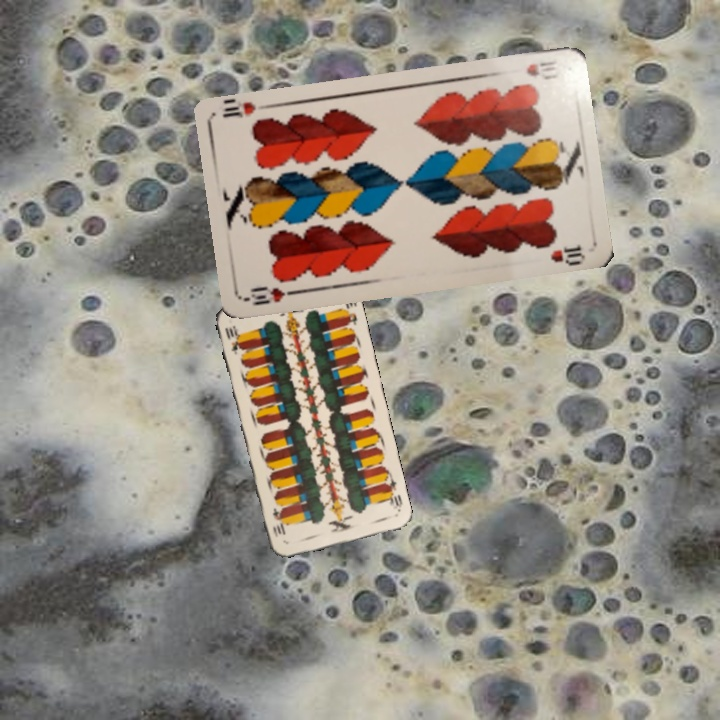E10: (381, 474, 405, 515), (221, 321, 245, 357)
H10: (243, 282, 302, 308), (522, 57, 564, 82)
